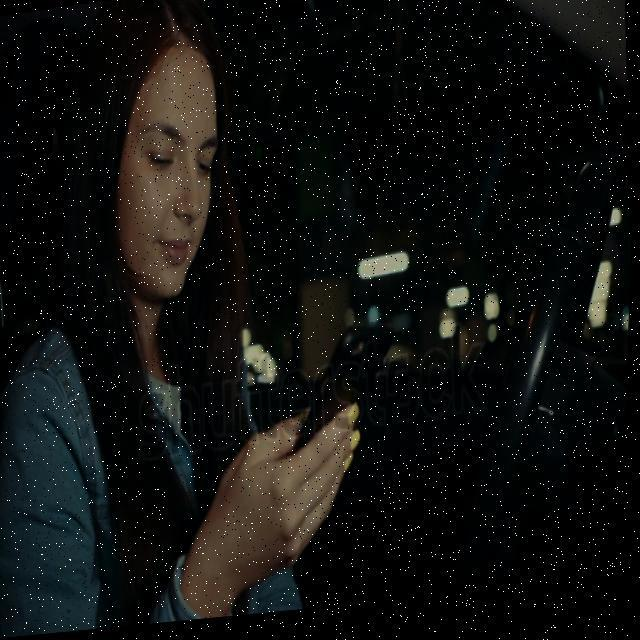PhoneCall: (290, 332, 400, 463)
